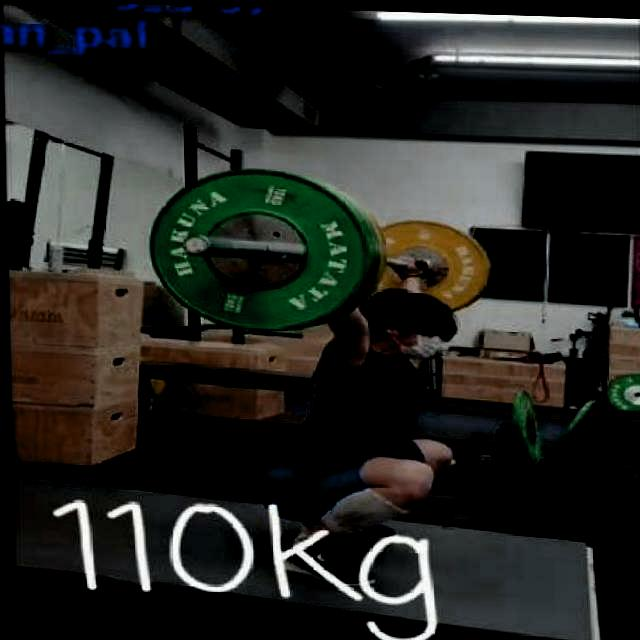barbell: (143, 167, 375, 332)
